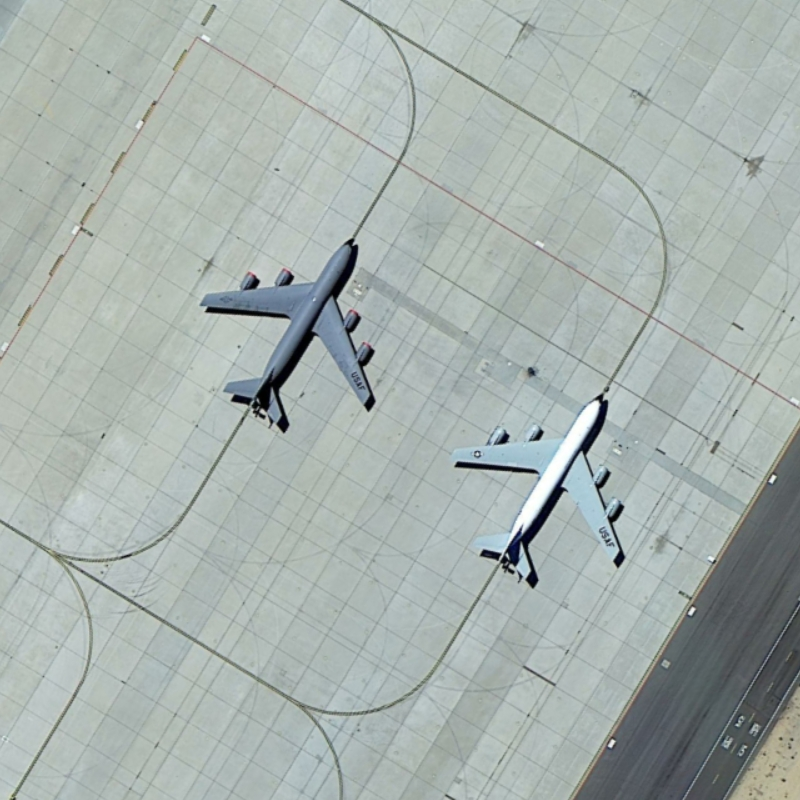A11: (441, 383, 631, 591)
A14: (188, 233, 389, 431)
